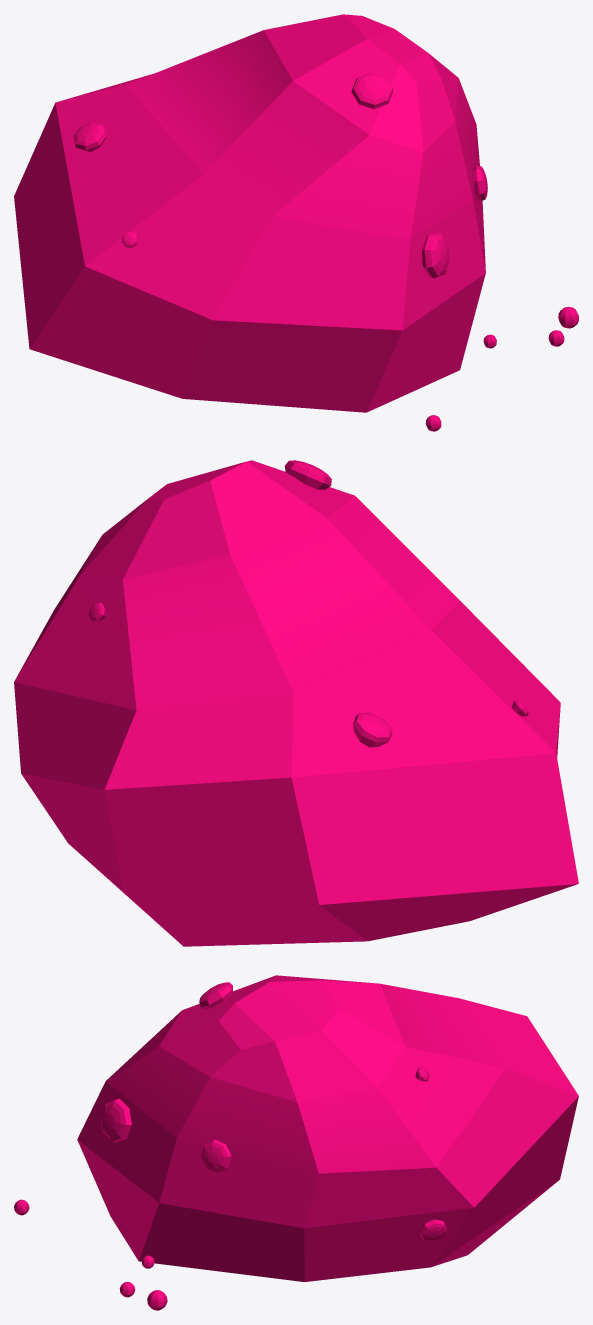
Rendered from SM_SS_Bush_1.fbx.
3 views of the same model, one above another, from view 1: azimuth 30°, elevation 25°; view 2: azimuth 150°, elevation 25°; view 3: azimuth 270°, elevation 25° (orthographic). The views are drawn at different scales.
Visible parts, largest first — view 1: SM_SS_Bush_1; view 2: SM_SS_Bush_1; view 3: SM_SS_Bush_1.
Part boxes in pixels (<box>): SM_SS_Bush_1: <box>14,14,578,431</box>; SM_SS_Bush_1: <box>14,460,578,946</box>; SM_SS_Bush_1: <box>14,975,578,1310</box>.
Size of the model in its own units: 83.87 by 95.17 by 56.62.
